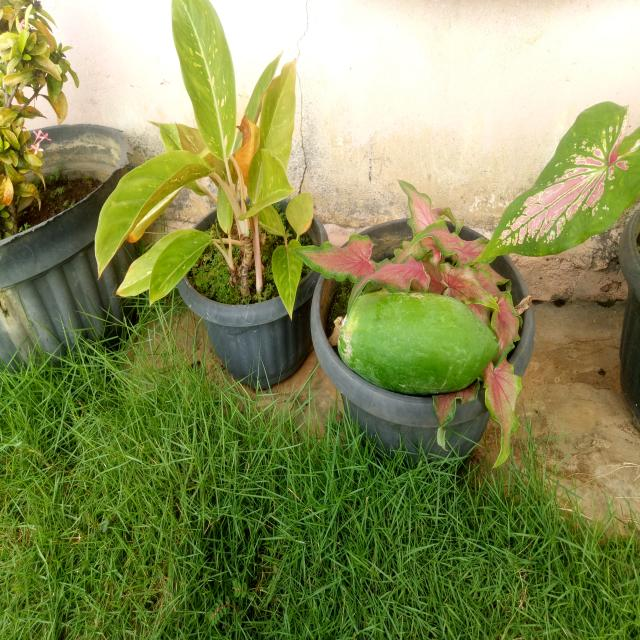Pepaya unrippen: (327, 284, 501, 399)
